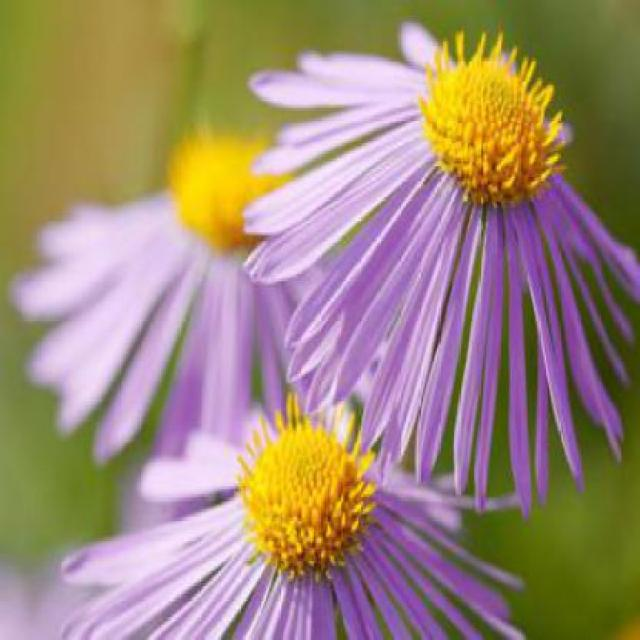Flower: (240, 20, 638, 520), (10, 123, 399, 482), (63, 392, 526, 638), (418, 26, 570, 206), (236, 392, 379, 581), (168, 123, 301, 254)
